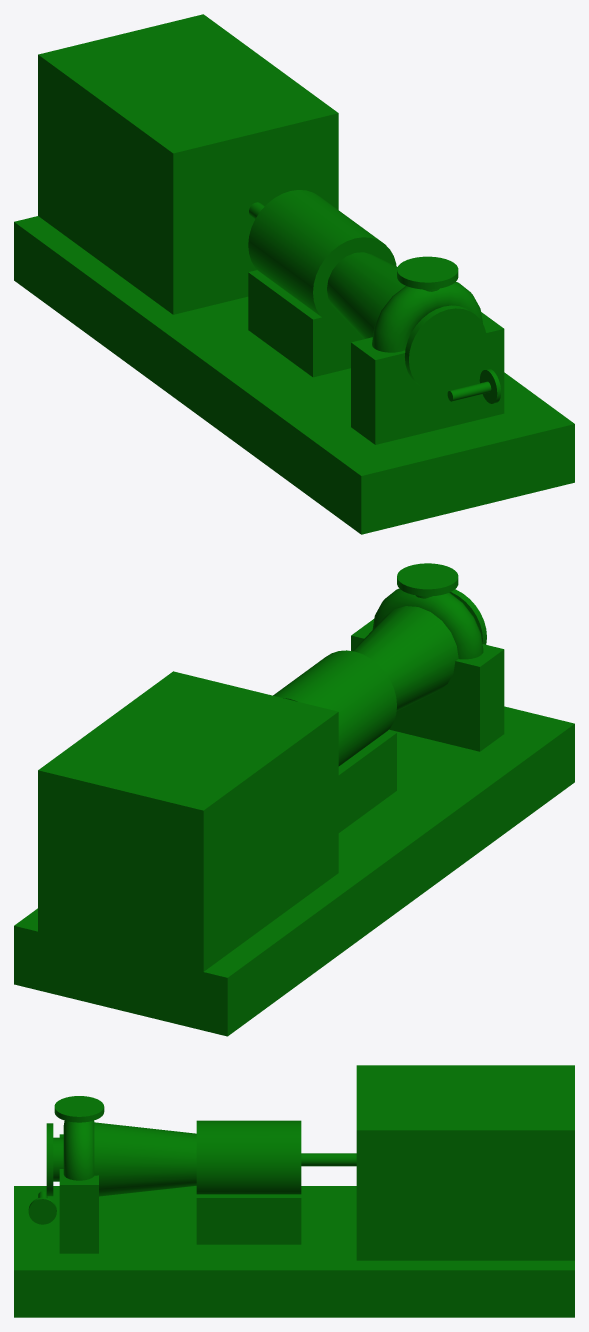
The model's file is Image-1711348098096-2280428032672_50-PA52.fbx.
3 renders of one model, top to bottom at view 1: azimuth 30°, elevation 25°; view 2: azimuth 150°, elevation 25°; view 3: azimuth 270°, elevation 25°, orthographic. The views are drawn at different scales.
Parts seen in each view (by area): view 1: BOX 2 of EQUIPMENT /50-PA52, BOX 1 of EQUIPMENT /50-PA52, CYLINDER 2 of EQUIPMENT /50-PA52, BOX 3 of EQUIPMENT /50-PA52, BOX 5 of EQUIPMENT /50-PA52, /50-PA52/N2, SNOUT 1 of EQUIPMENT /50-PA52, CTORUS 1 of EQUIPMENT /50-PA52, /50-PA52/N1, /50-PA52/N3, /50-PA52/N4; view 2: BOX 2 of EQUIPMENT /50-PA52, BOX 1 of EQUIPMENT /50-PA52, BOX 3 of EQUIPMENT /50-PA52, CYLINDER 2 of EQUIPMENT /50-PA52, SNOUT 1 of EQUIPMENT /50-PA52, BOX 5 of EQUIPMENT /50-PA52, CTORUS 1 of EQUIPMENT /50-PA52, /50-PA52/N1; view 3: BOX 1 of EQUIPMENT /50-PA52, BOX 2 of EQUIPMENT /50-PA52, CYLINDER 2 of EQUIPMENT /50-PA52, SNOUT 1 of EQUIPMENT /50-PA52, BOX 5 of EQUIPMENT /50-PA52, BOX 3 of EQUIPMENT /50-PA52, CTORUS 1 of EQUIPMENT /50-PA52, /50-PA52/N1, /50-PA52/N2, CYLINDER 3 of EQUIPMENT /50-PA52, /50-PA52/N4.
Boxes of the visible parts, box(x1,y1,x2,y2) form: BOX 2 of EQUIPMENT /50-PA52: box(38, 14, 338, 314); BOX 1 of EQUIPMENT /50-PA52: box(14, 216, 574, 534); CYLINDER 2 of EQUIPMENT /50-PA52: box(248, 190, 396, 327); BOX 3 of EQUIPMENT /50-PA52: box(351, 312, 504, 444); BOX 5 of EQUIPMENT /50-PA52: box(248, 270, 363, 377); /50-PA52/N2: box(405, 305, 486, 392); SNOUT 1 of EQUIPMENT /50-PA52: box(327, 252, 405, 338); CTORUS 1 of EQUIPMENT /50-PA52: box(372, 282, 482, 352); /50-PA52/N1: box(397, 256, 458, 291); /50-PA52/N3: box(447, 462, 489, 507); /50-PA52/N4: box(447, 369, 500, 403); BOX 2 of EQUIPMENT /50-PA52: box(38, 671, 338, 971); BOX 1 of EQUIPMENT /50-PA52: box(14, 706, 574, 1036); BOX 3 of EQUIPMENT /50-PA52: box(351, 619, 504, 751); CYLINDER 2 of EQUIPMENT /50-PA52: box(273, 650, 396, 766); SNOUT 1 of EQUIPMENT /50-PA52: box(353, 606, 458, 710); BOX 5 of EQUIPMENT /50-PA52: box(338, 730, 396, 832); CTORUS 1 of EQUIPMENT /50-PA52: box(372, 588, 483, 659); /50-PA52/N1: box(397, 563, 458, 598); BOX 1 of EQUIPMENT /50-PA52: box(14, 1186, 574, 1317); BOX 2 of EQUIPMENT /50-PA52: box(356, 1065, 574, 1260); CYLINDER 2 of EQUIPMENT /50-PA52: box(196, 1120, 301, 1194); SNOUT 1 of EQUIPMENT /50-PA52: box(94, 1122, 196, 1196); BOX 5 of EQUIPMENT /50-PA52: box(196, 1194, 301, 1244); BOX 3 of EQUIPMENT /50-PA52: box(59, 1134, 98, 1253); CTORUS 1 of EQUIPMENT /50-PA52: box(63, 1120, 94, 1180); /50-PA52/N1: box(54, 1096, 104, 1122); /50-PA52/N2: box(46, 1123, 63, 1196); CYLINDER 3 of EQUIPMENT /50-PA52: box(301, 1153, 356, 1166); /50-PA52/N4: box(28, 1191, 56, 1224).
Size of the model in its own units: 0.762 by 2.15 by 0.75.
